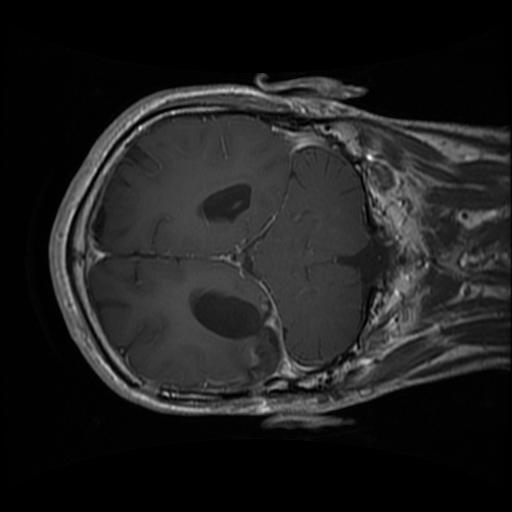glioma: (186, 289, 279, 384)
